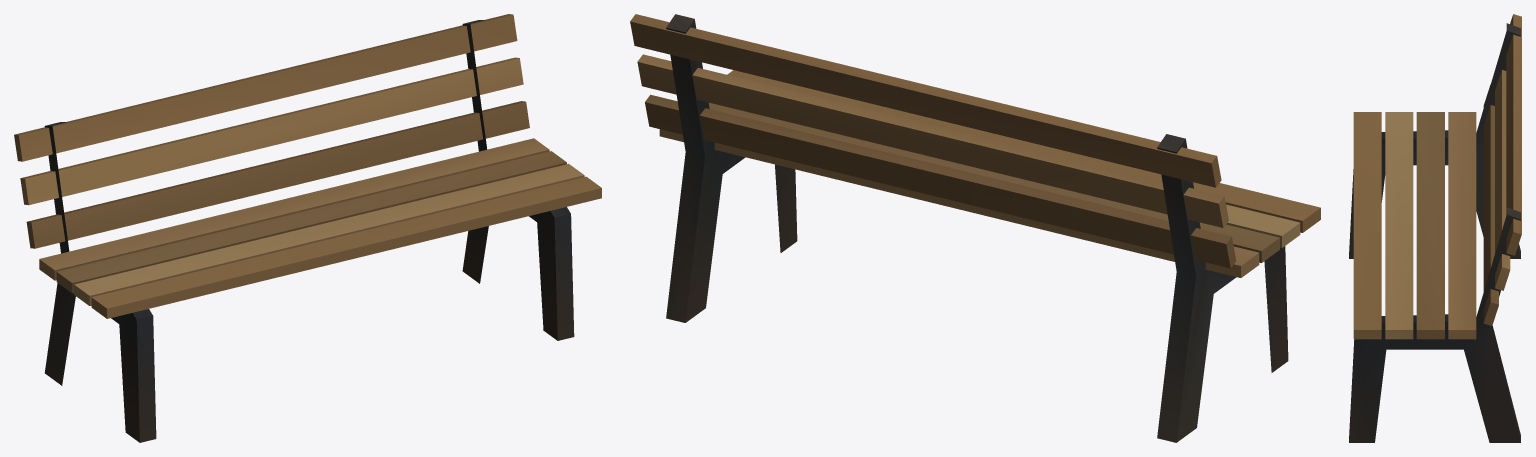
Rendered from bench.glb.
The picture shows the model from 3 angles, left to right: view 1: azimuth 30°, elevation 25°; view 2: azimuth 150°, elevation 25°; view 3: azimuth 270°, elevation 25°; orthographic projection. The views are drawn at different scales.
Visible parts, largest first — view 1: Bench; view 2: Bench; view 3: Bench.
Part boxes in pixels (x1,y1,x2,y2): Bench: (14, 14, 601, 442); Bench: (630, 14, 1320, 442); Bench: (1349, 14, 1521, 442).
Size of the model in its own units: 1.8 by 0.88 by 0.6026.
